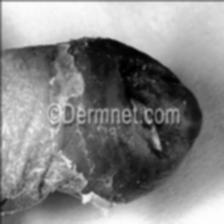Non-Cancerous Skin Condition: (0, 52, 80, 190), (93, 51, 158, 99)
